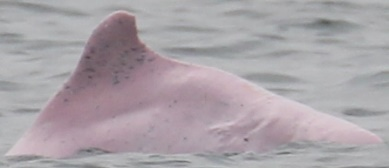fin: (7, 6, 387, 160)
